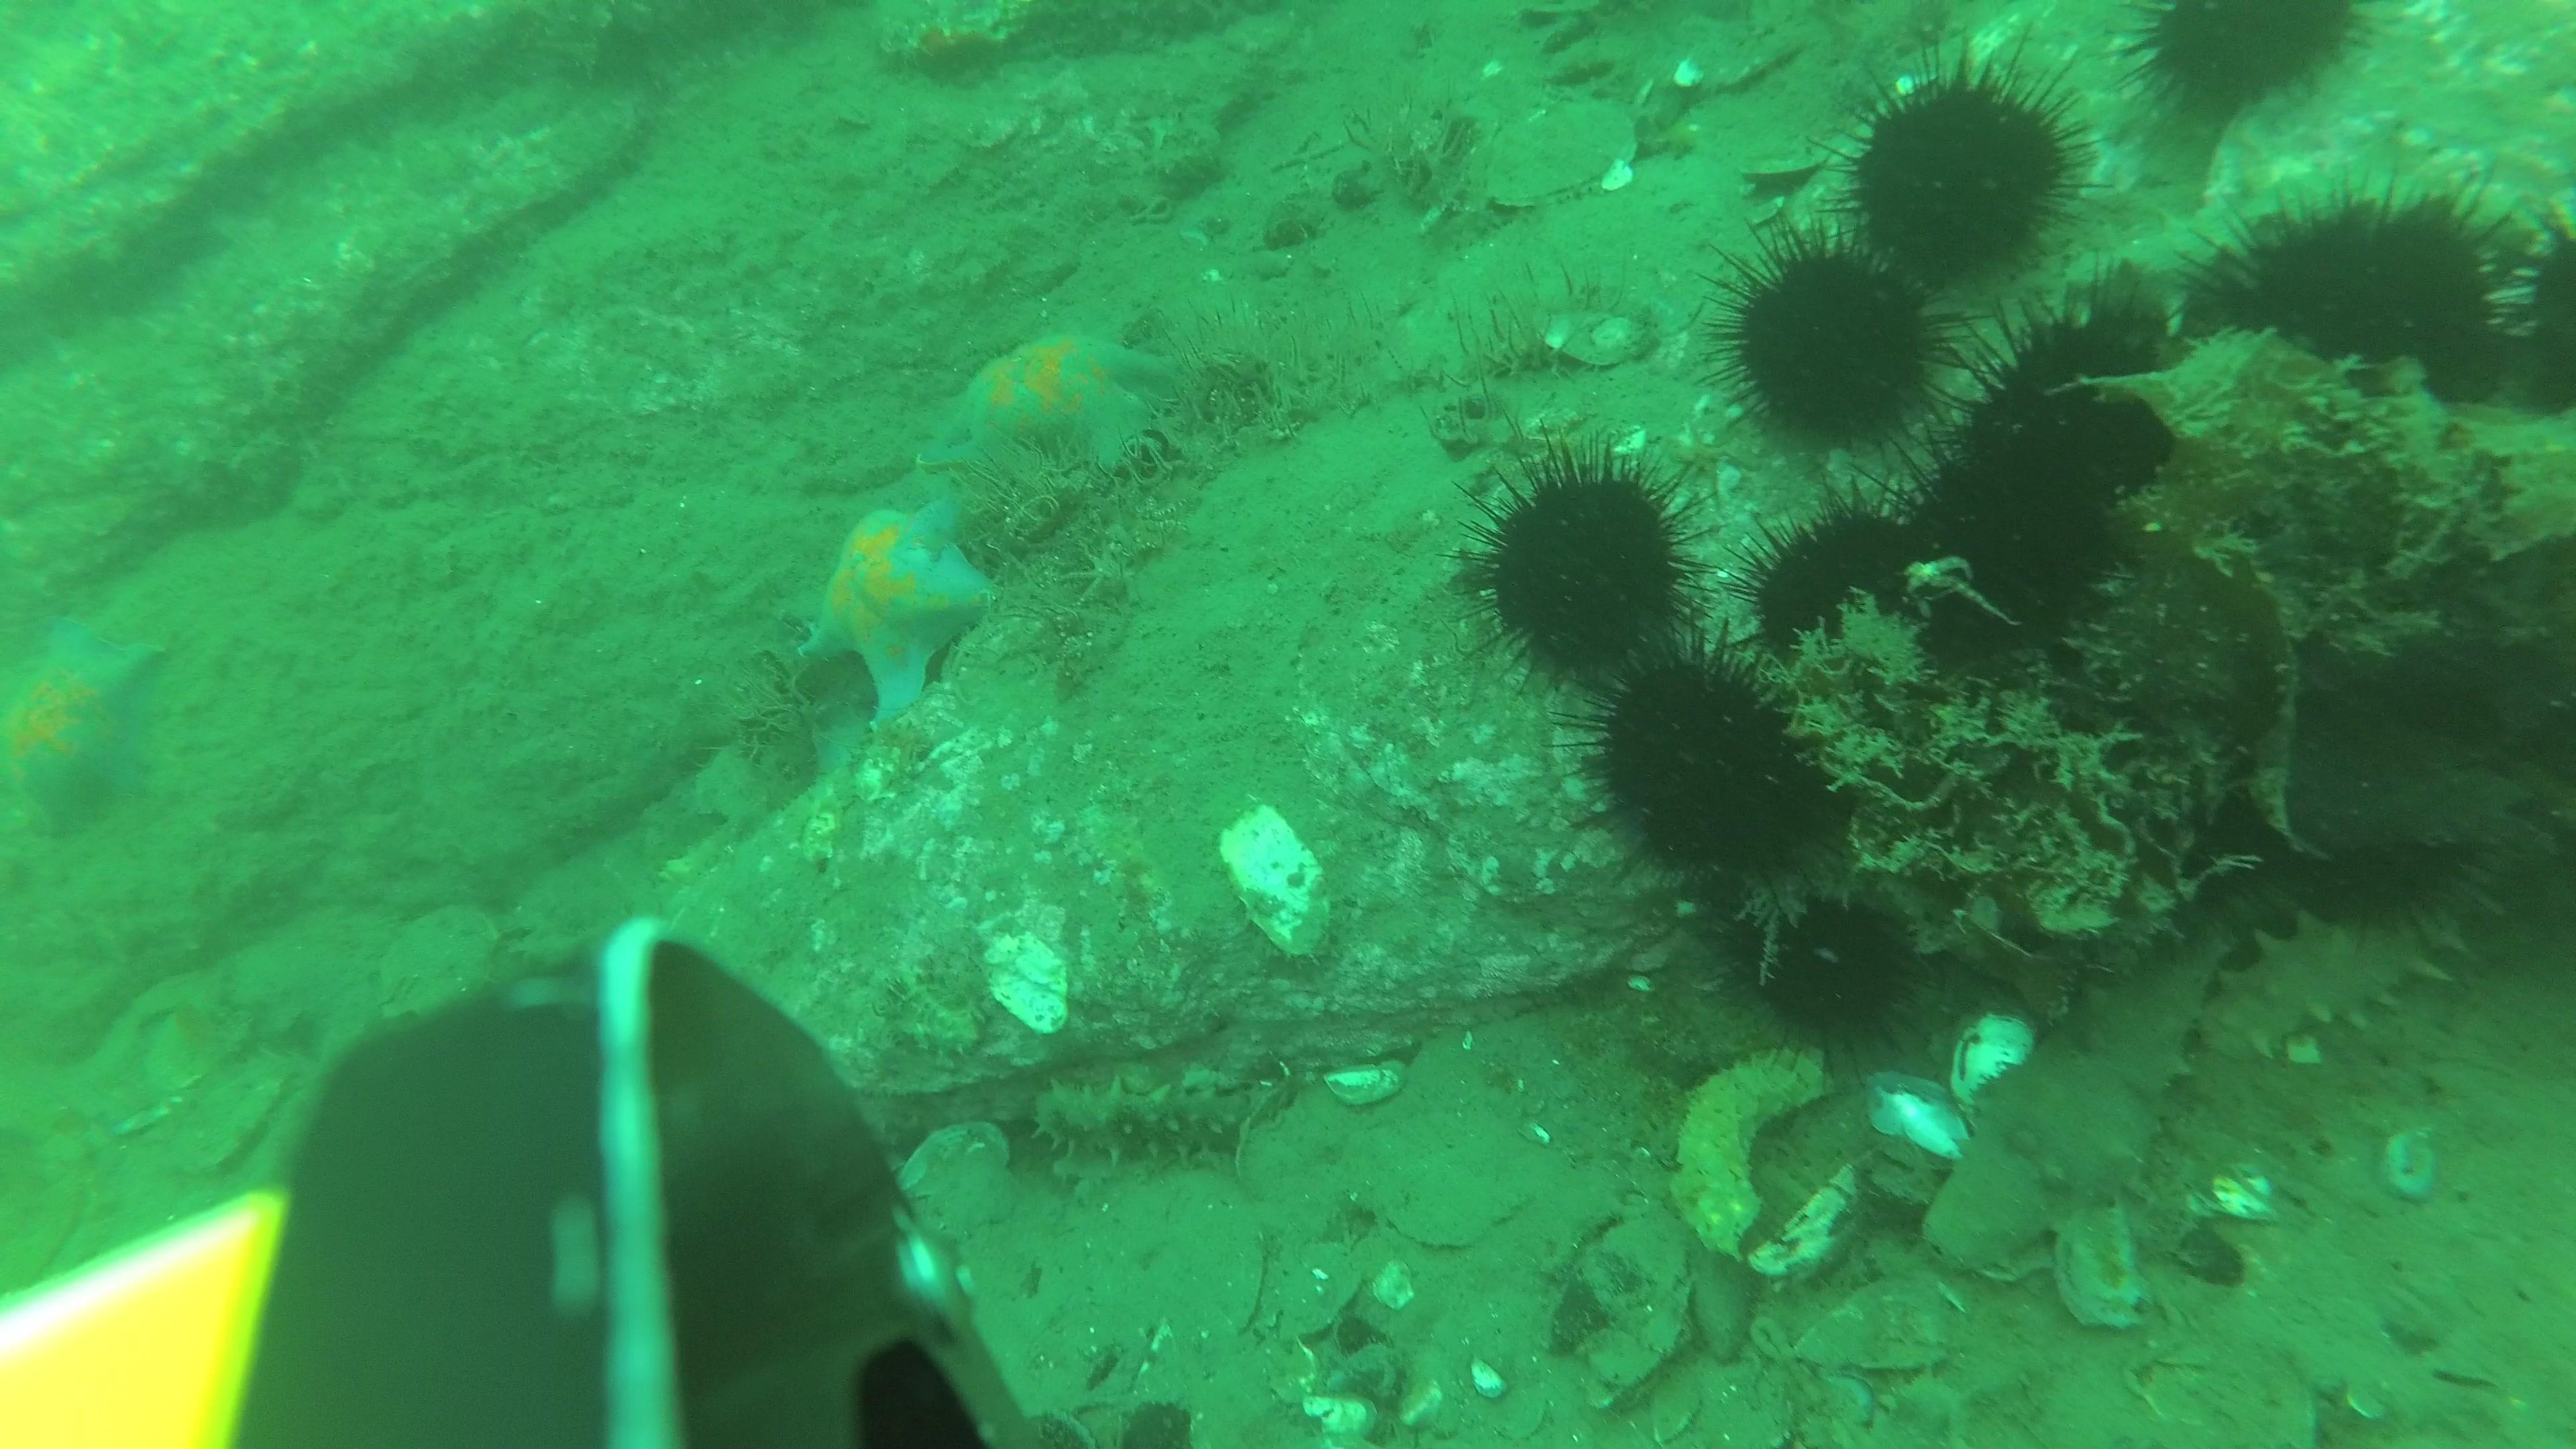echinus: (1546, 633, 1867, 936), (1433, 418, 1725, 722), (1815, 27, 2118, 318), (2206, 184, 2495, 474), (1932, 274, 2212, 552), (1706, 218, 1987, 478), (1877, 412, 2132, 692), (1730, 474, 1962, 738), (1725, 870, 1928, 1072), (2281, 743, 2491, 927), (2114, 0, 2394, 127), (2105, 743, 2284, 913), (2477, 188, 2576, 472)
holothurian: (1932, 909, 2236, 1269), (2056, 172, 2516, 336), (2194, 840, 2528, 1063), (1033, 1079, 1290, 1169)
scallop: (888, 1116, 1021, 1244), (1491, 101, 1633, 216), (372, 909, 502, 1030)
starfish: (916, 329, 1200, 492), (800, 506, 996, 718), (0, 610, 168, 839)
